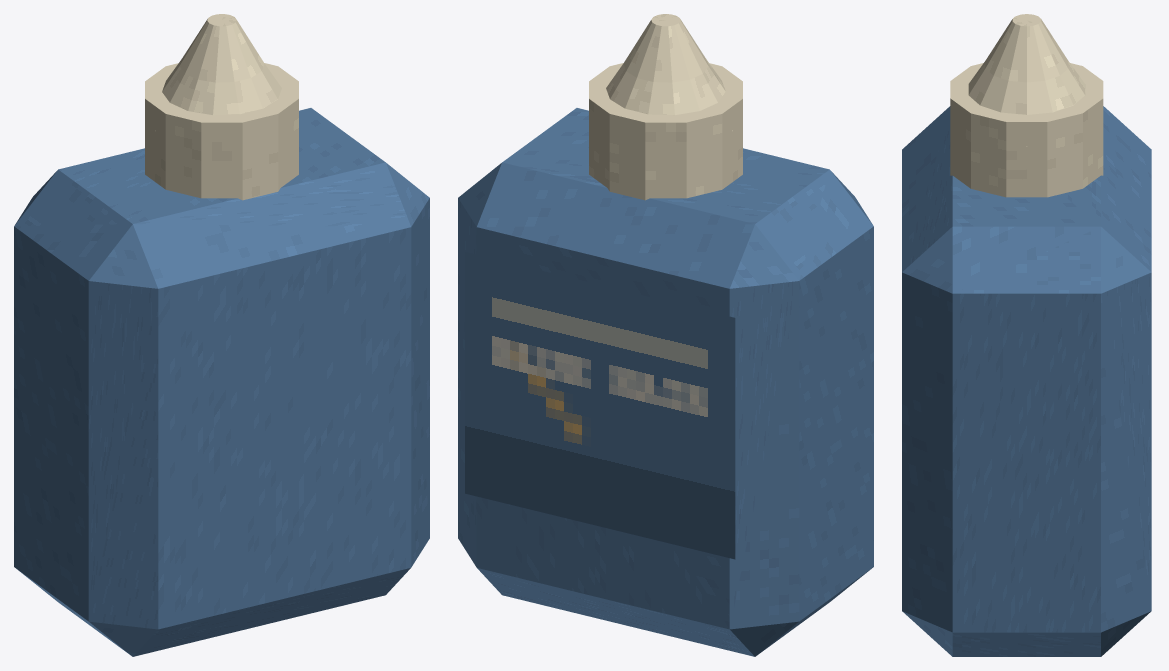
The model's file is hair_dye_blue.glb.
The picture shows the model from 3 angles, left to right: view 1: azimuth 30°, elevation 25°; view 2: azimuth 150°, elevation 25°; view 3: azimuth 270°, elevation 25°; orthographic projection.
Visible parts, largest first — view 1: block_squeeze bottle, block_pointed dispenser, block_dispenser tip; view 2: block_squeeze bottle, block_salon dye label, block_pointed dispenser, block_dispenser tip; view 3: block_squeeze bottle, block_pointed dispenser, block_dispenser tip.
Boxes of the visible parts, <box> form: block_squeeze bottle: <box>14,108,429,656</box>; block_pointed dispenser: <box>145,63,298,200</box>; block_dispenser tip: <box>155,14,281,130</box>; block_squeeze bottle: <box>458,108,873,656</box>; block_salon dye label: <box>465,252,735,559</box>; block_pointed dispenser: <box>589,63,742,200</box>; block_dispenser tip: <box>606,14,732,130</box>; block_squeeze bottle: <box>902,106,1151,656</box>; block_pointed dispenser: <box>950,63,1103,197</box>; block_dispenser tip: <box>968,14,1085,146</box>.
Size of the model in its own units: 0.0742 by 0.1203 by 0.0479.
Materials: 1 (1 with a texture image).
